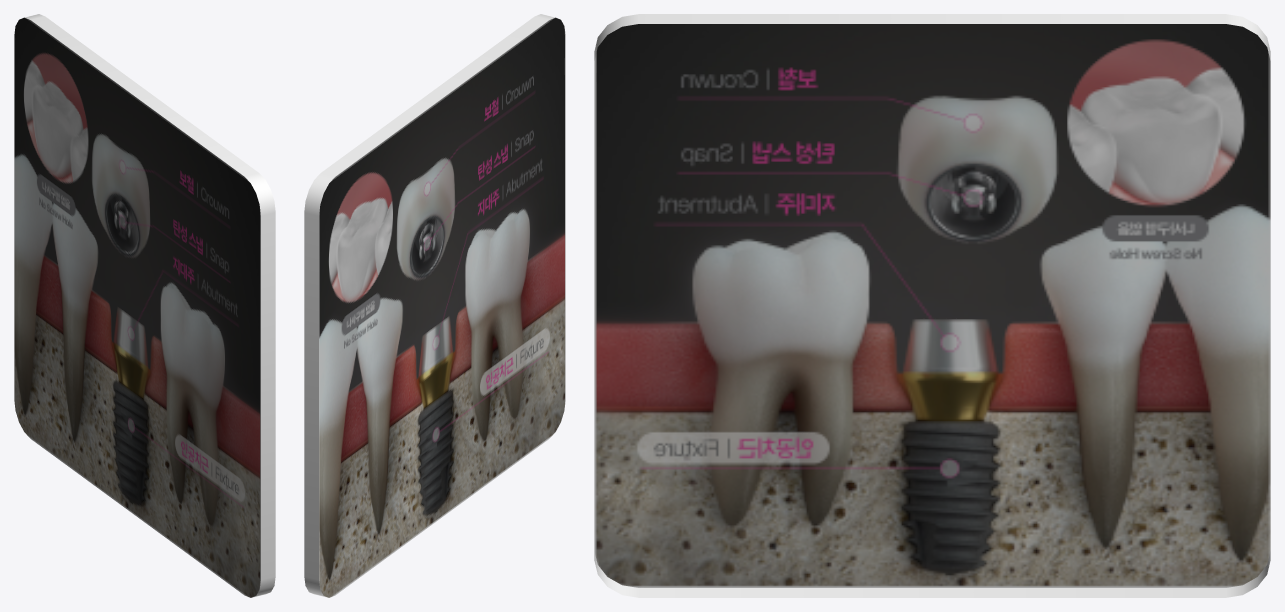
The model's file is IMG01.fbx.
3 renders of one model, left to right at view 1: azimuth 30°, elevation 25°; view 2: azimuth 150°, elevation 25°; view 3: azimuth 270°, elevation 25°, orthographic. The views are drawn at different scales.
Visible parts, largest first — view 1: IMG01; view 2: IMG01; view 3: IMG01.
Boxes of the visible parts, box(x1,y1,x2,y2) form: IMG01: box(14, 14, 275, 597); IMG01: box(304, 14, 565, 597); IMG01: box(594, 14, 1270, 597).
Size of the model in its own units: 4.43 by 120 by 128.
